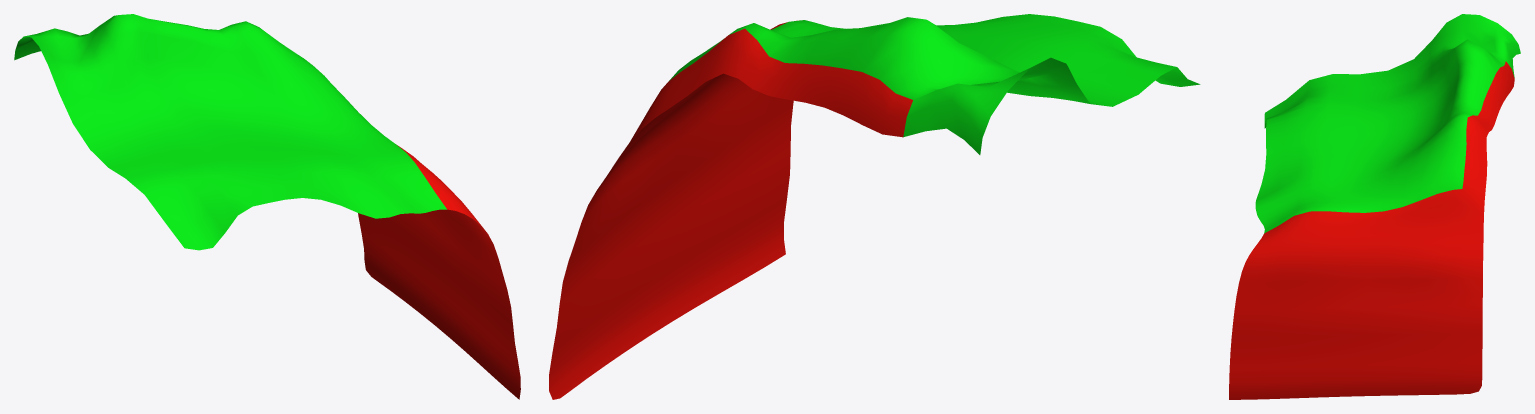
3 views of the same model, side by side, from view 1: azimuth 30°, elevation 25°; view 2: azimuth 150°, elevation 25°; view 3: azimuth 270°, elevation 25° (orthographic). The views are drawn at different scales.
Visible parts, largest first — view 1: T6; view 2: T6; view 3: T6.
Part boxes in pixels (x1=…): T6: x1=14, y1=14, x2=520, y2=399; T6: x1=549, y1=14, x2=1200, y2=399; T6: x1=1229, y1=14, x2=1520, y2=399.
Bounding box in the file's own units: 5551 × 5219 × 5217.
